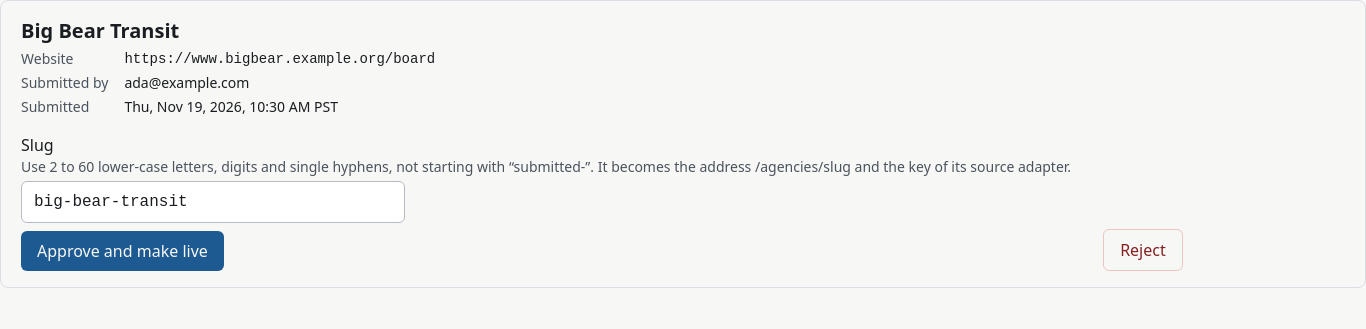
Test: ReviewItem › shows the API's message for an invalid slug
This screenshot has width=1366, height=329.
Click the button "Approve and make live": (122, 251) left=21, top=231, right=224, bottom=271
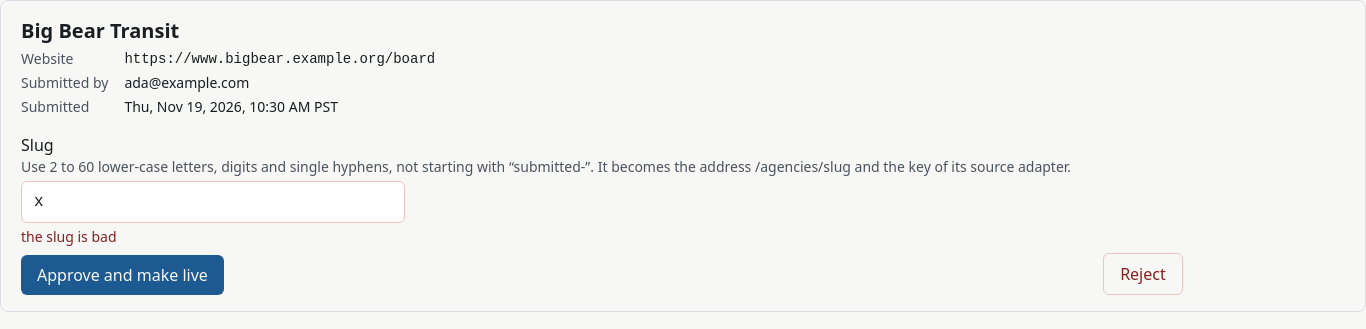
Expected: the text "the slug is bad" is shown, left=21, top=227, right=116, bottom=246
